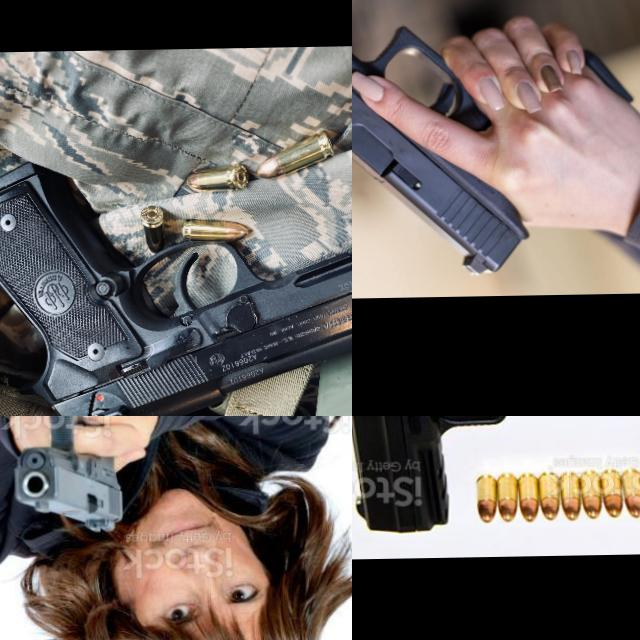handgun: (0, 147, 352, 416), (352, 416, 640, 612), (352, 0, 530, 279), (8, 416, 124, 535)
